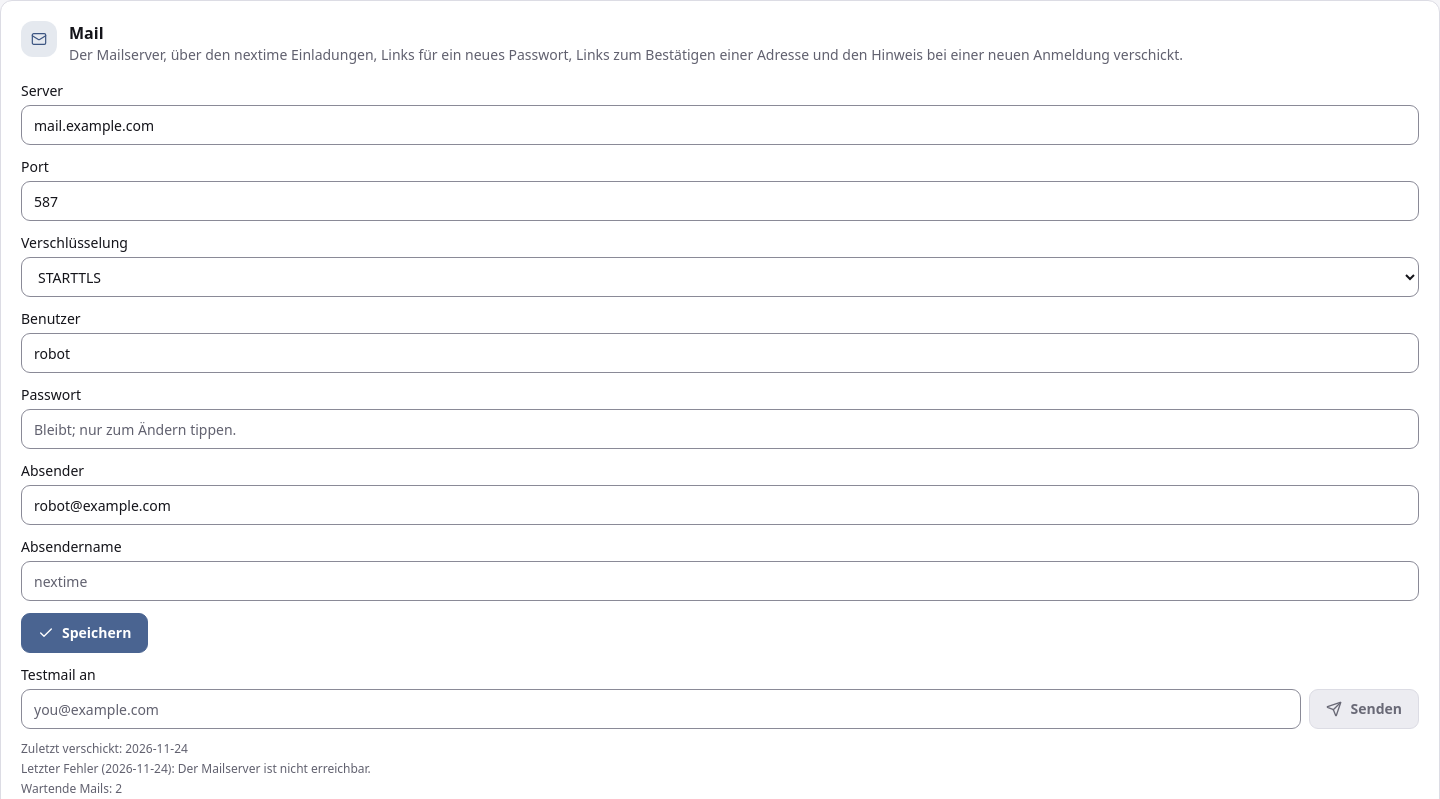
the card Mail › lets the port follow the encryption until one is typed, and warns without encryption
This screenshot has width=1440, height=799.
Later steps or results of the test are not shown.
Select "TLS" in the dropdown with test id "mail-security" at (720, 277), box [21, 257, 1419, 297]
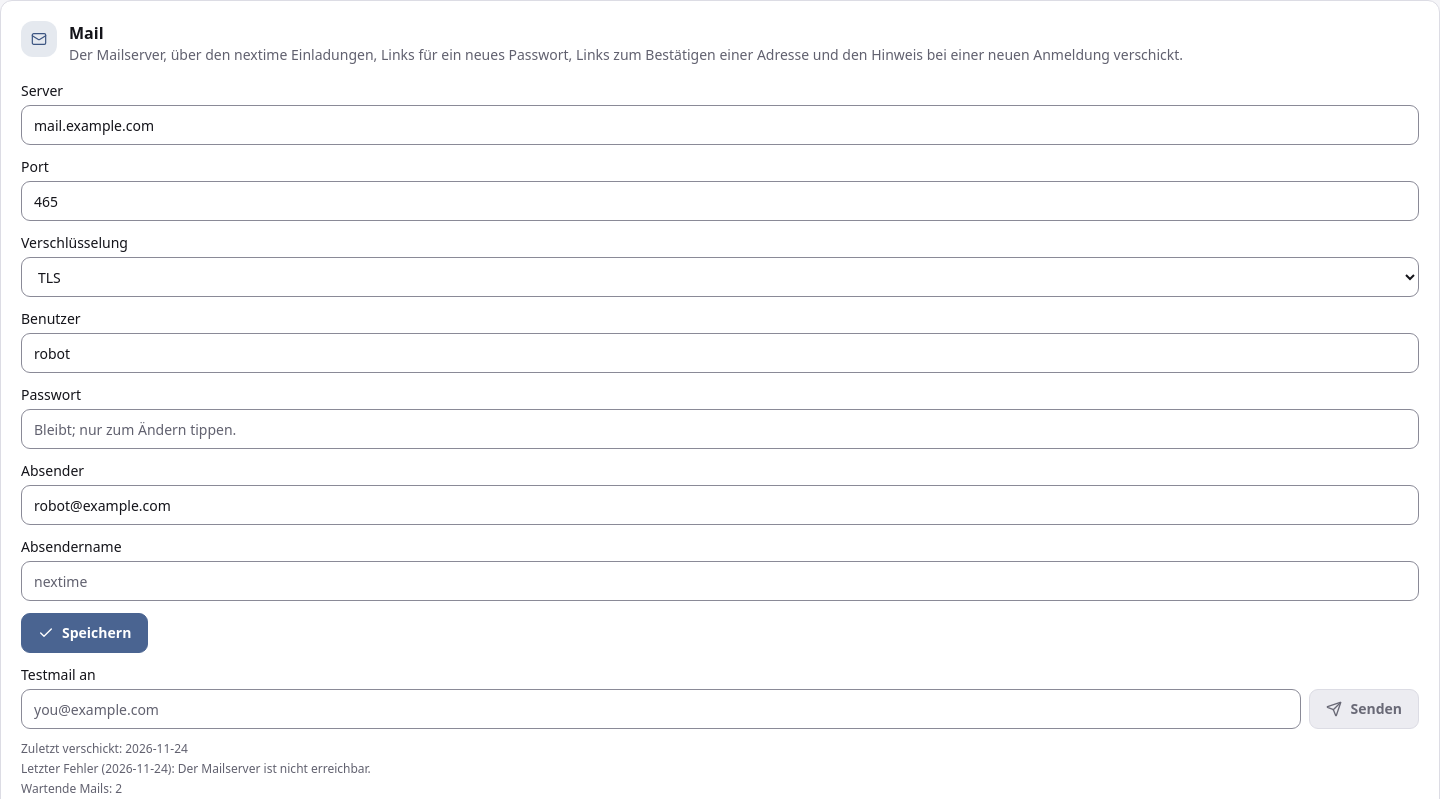
Now the number field with test id "mail-port" holds "465", box [21, 181, 1419, 221]
Select "keine" in the dropdown with test id "mail-security" at (720, 277), box [21, 257, 1419, 297]
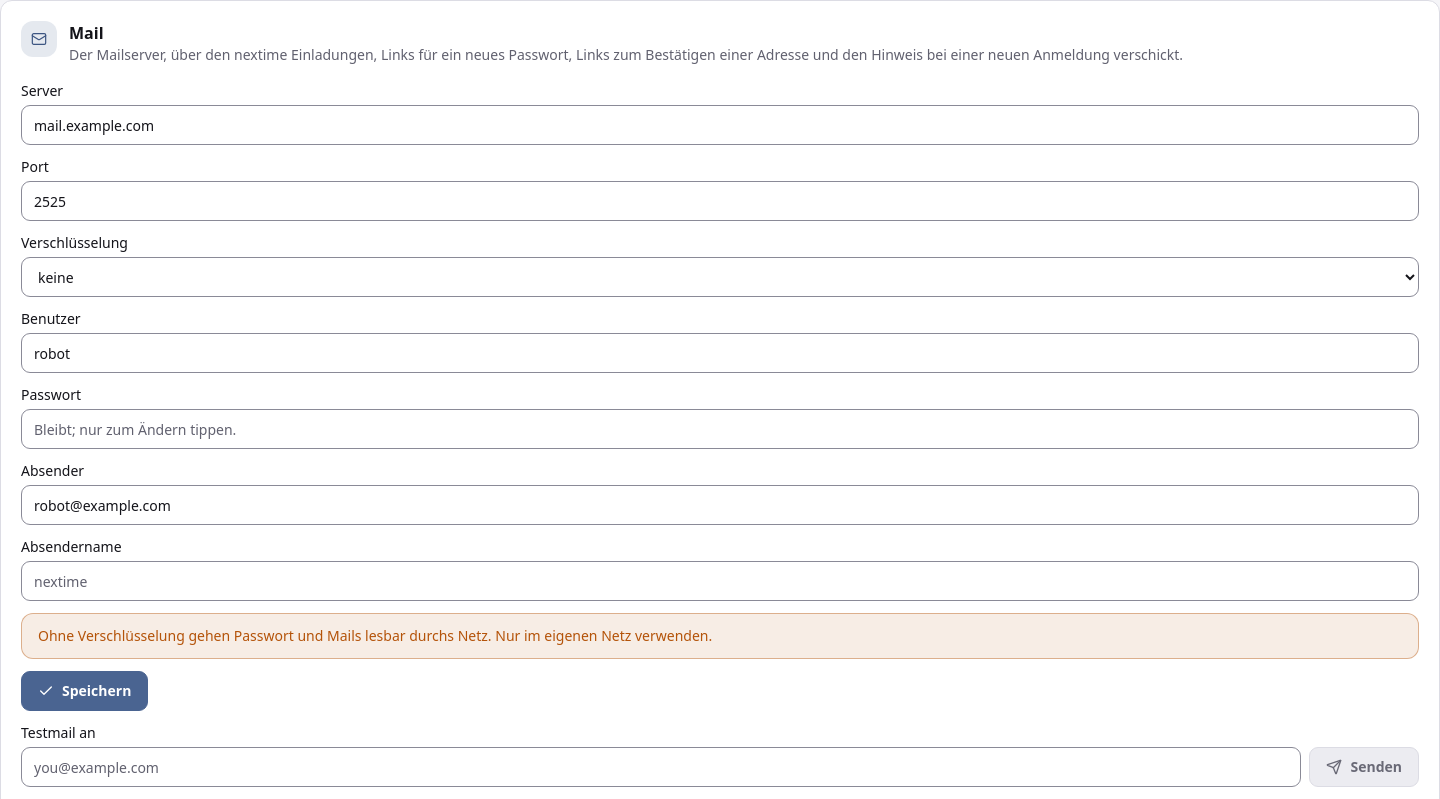
Now the element with test id "mail-warning" shows "Ohne Verschlüsselung", box [38, 626, 712, 645]
